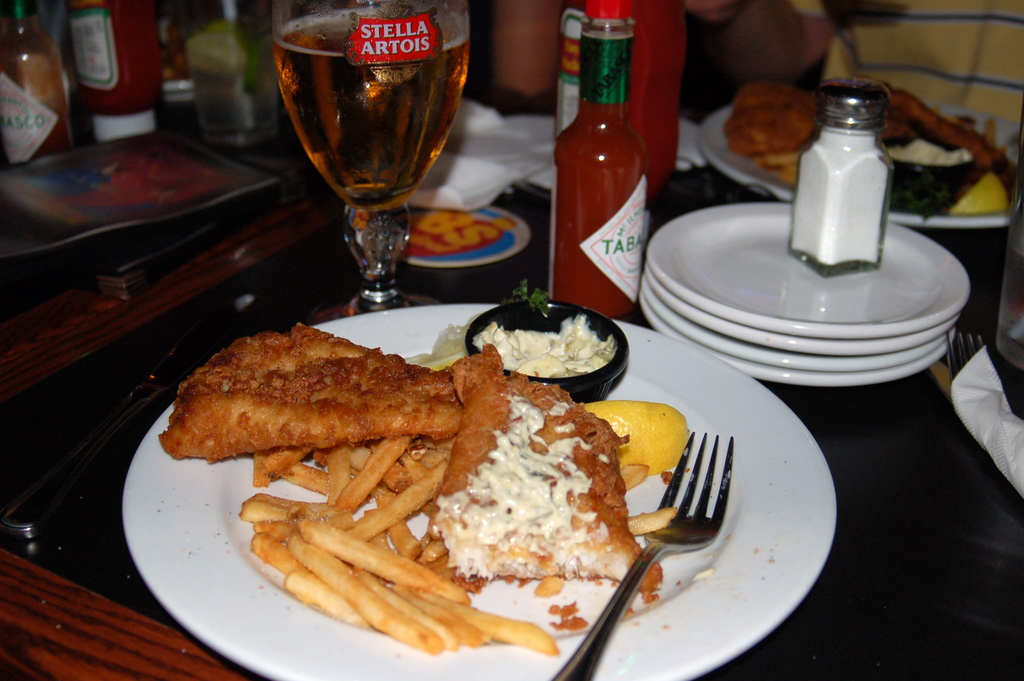French fries: (225, 427, 564, 631)
